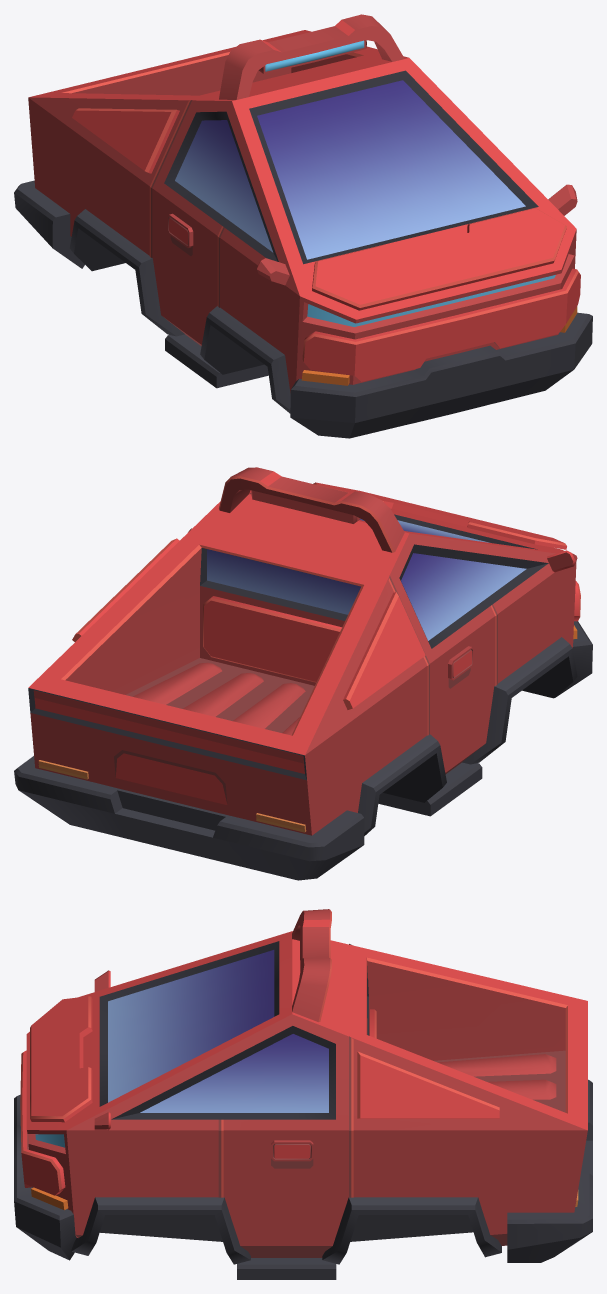
Rendered from TeslaCybertruck_Red.fbx.
3 views of the same model, one above another, from view 1: azimuth 30°, elevation 25°; view 2: azimuth 150°, elevation 25°; view 3: azimuth 270°, elevation 25° (orthographic). The views are drawn at different scales.
Visible parts, largest first — view 1: Car_4_Enemy; view 2: Car_4_Enemy; view 3: Car_4_Enemy.
Boxes of the visible parts, box(x1,y1,x2,y2) form: Car_4_Enemy: box(14, 14, 592, 438); Car_4_Enemy: box(14, 467, 592, 880); Car_4_Enemy: box(14, 909, 592, 1279).
Bounding box in the file's own units: 2.77 × 2.41 × 4.53.
